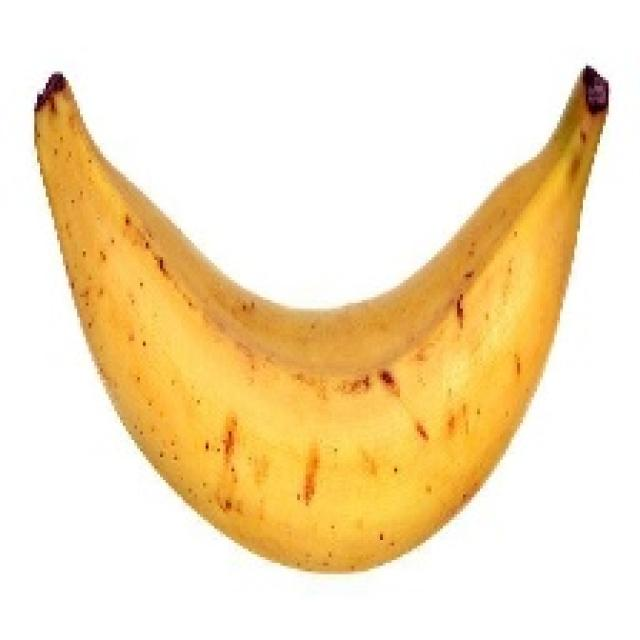Banana: (29, 60, 608, 574)
